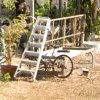stairs: (13, 16, 50, 81)
